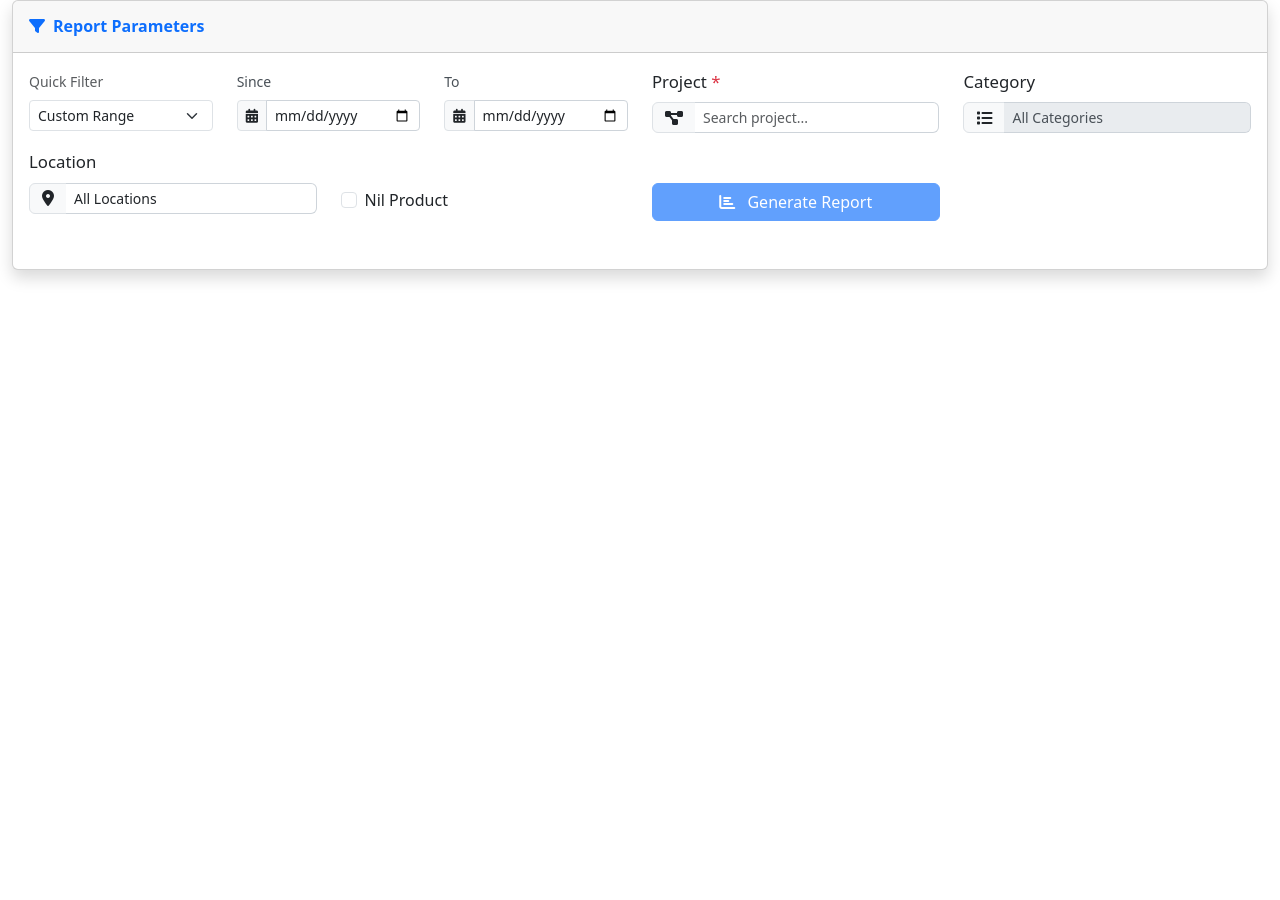
ProductReport stock breakdown › cancels a scheduled next-page request when the report is closed
Type "Project One" into the field labelled "project".
click(817, 118); type("Project One")  # box [695,102,940,133]
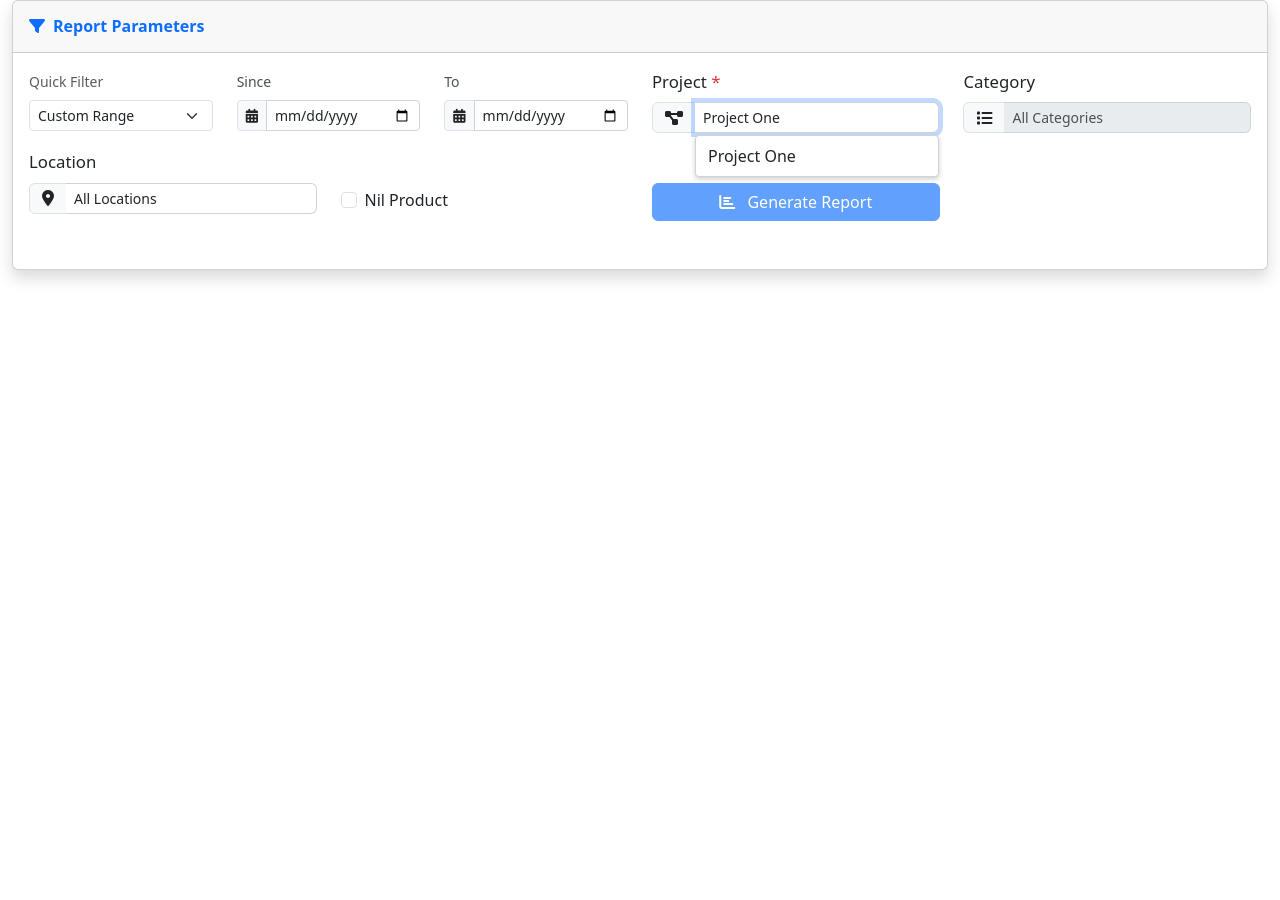
Click the text "Project One".
click(752, 156)  # box [708,145,796,167]
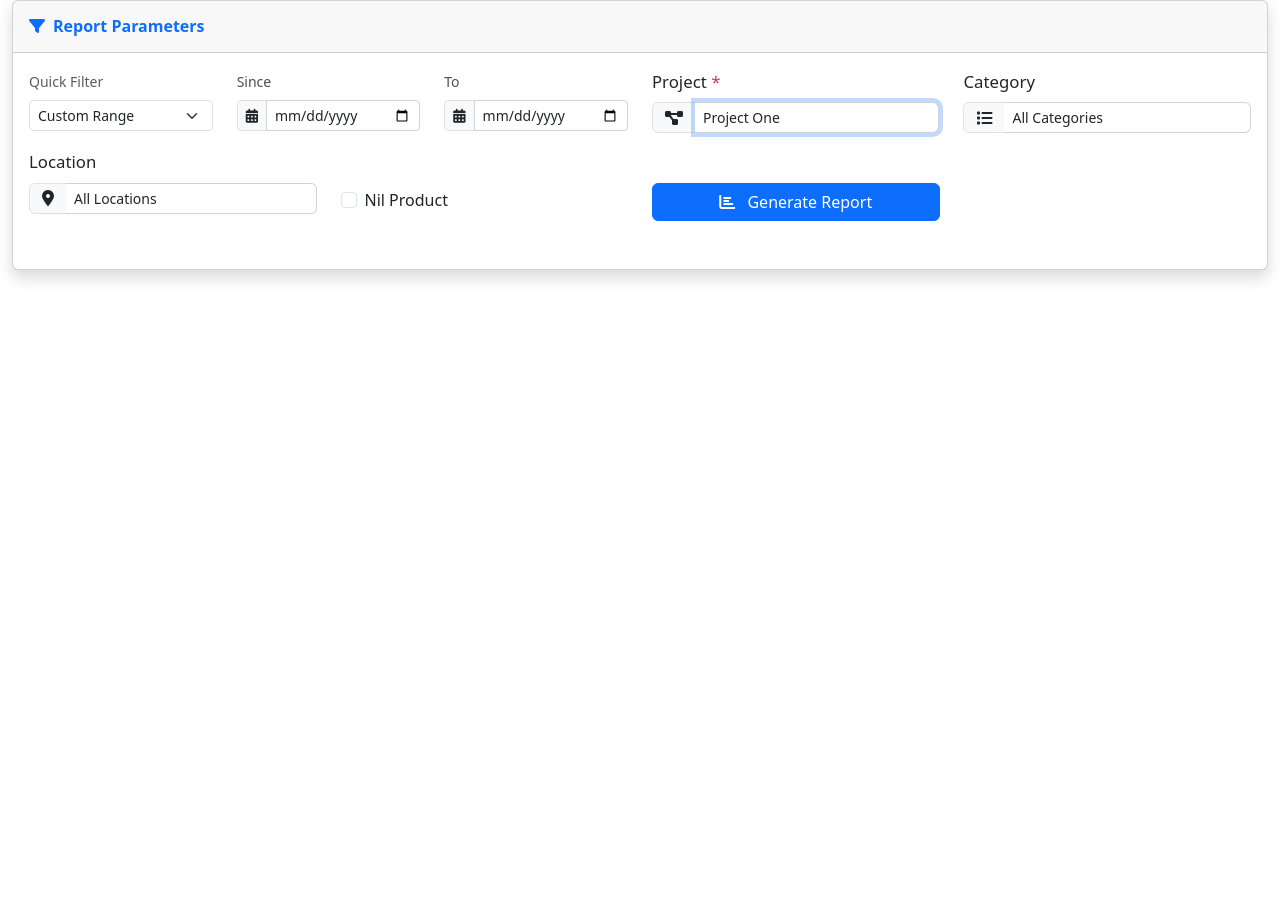
Click the button "Generate Report".
click(796, 202)  # box [652,183,940,221]
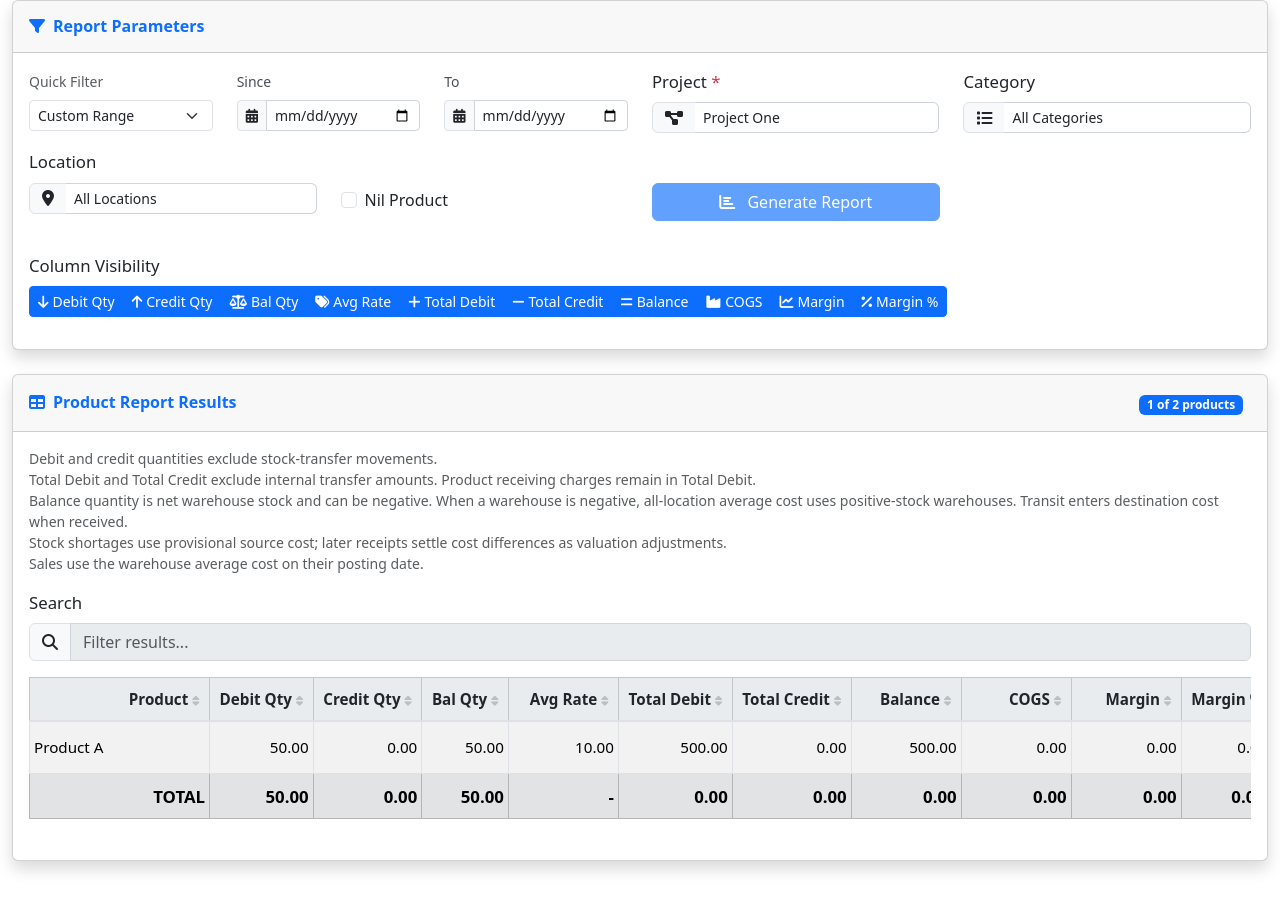
Now the text "Product A" is shown, box [30,721,210,774]
